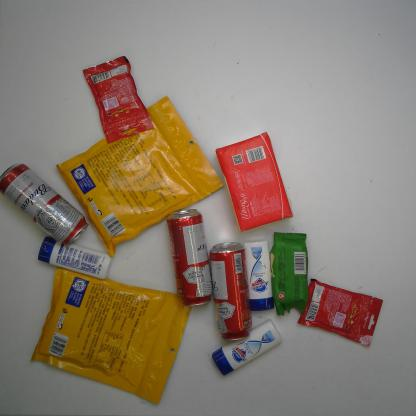Alcohol: (0, 159, 90, 245), (165, 208, 213, 307), (210, 241, 253, 342)
Candy: (80, 53, 154, 144), (294, 276, 384, 348)
Dessert: (271, 228, 309, 315)
Dried Fruit: (58, 95, 225, 253), (31, 267, 193, 405)
Personal Hygiene: (211, 319, 282, 377), (39, 236, 112, 279), (244, 241, 276, 312)
Tissue: (215, 131, 293, 231)
